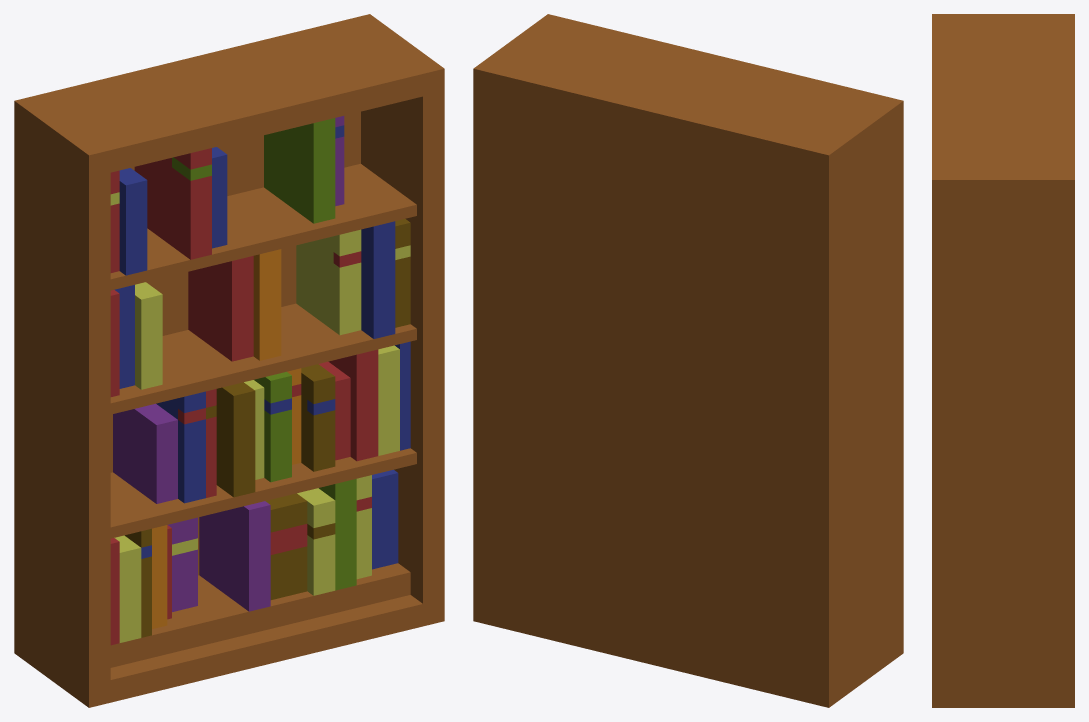
The model's file is Bookshelf2.obj.
3 renders of one model, left to right at view 1: azimuth 30°, elevation 25°; view 2: azimuth 150°, elevation 25°; view 3: azimuth 270°, elevation 25°, orthographic. The views are drawn at different scales.
Bounding box in the file's own units: 3.3 × 4.9 × 1.2.
1 material, 1 textured.
